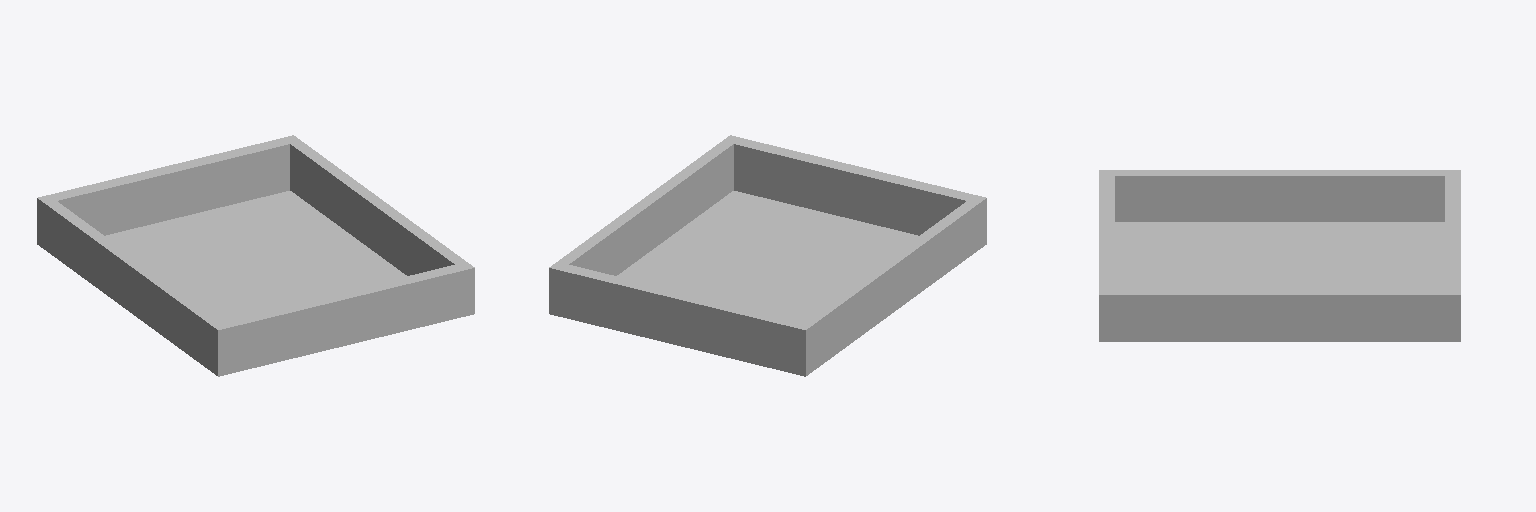
File: map.obj
3 renders of one model, left to right at view 1: azimuth 30°, elevation 25°; view 2: azimuth 150°, elevation 25°; view 3: azimuth 270°, elevation 25°, orthographic.
Parts seen in each view (by area): view 1: Plane; view 2: Plane; view 3: Plane.
Part boxes in pixels (x1,y1,x2,y2): Plane: (37,135,474,376); Plane: (549,135,986,376); Plane: (1099,170,1460,341).
Bounding box in the file's own units: 18 × 3.11 × 22.